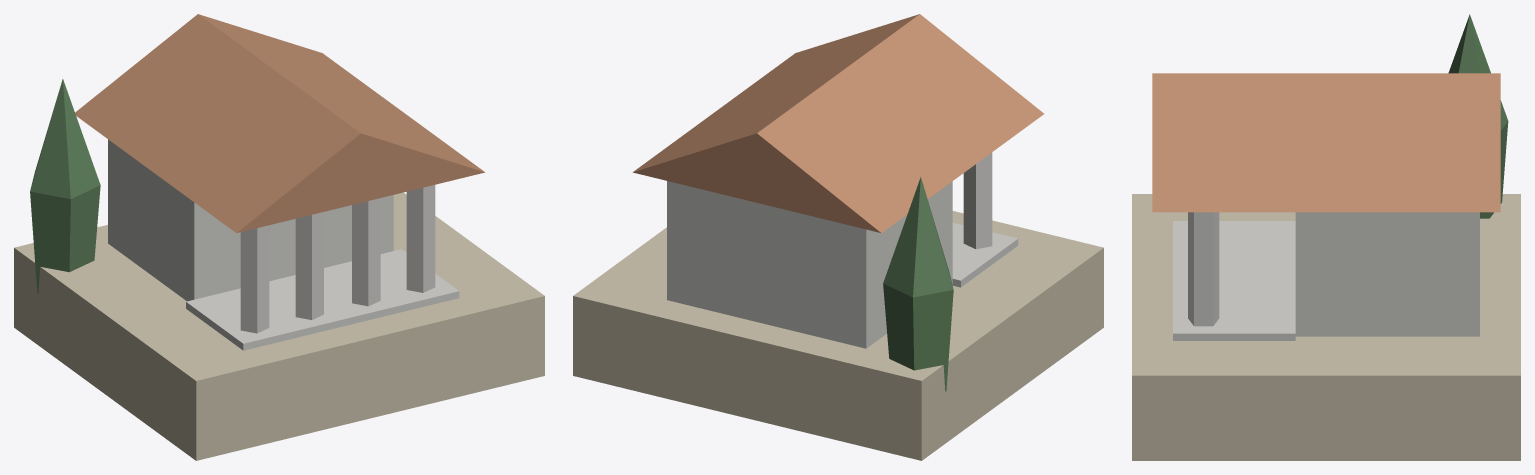
The model's file is house-classical-2.glb.
3 renders of one model, left to right at view 1: azimuth 30°, elevation 25°; view 2: azimuth 150°, elevation 25°; view 3: azimuth 270°, elevation 25°, orthographic. The views are drawn at different scales.
Parts seen in each view (by area): view 1: LOD0; view 2: LOD0; view 3: LOD0.
Part boxes in pixels (box(x1,y1,x2,y2)): LOD0: box(14, 14, 544, 460); LOD0: box(573, 14, 1103, 460); LOD0: box(1132, 14, 1520, 460).
Size of what is drawn, in the model's own units: 0.2148 by 0.16 by 0.19.
